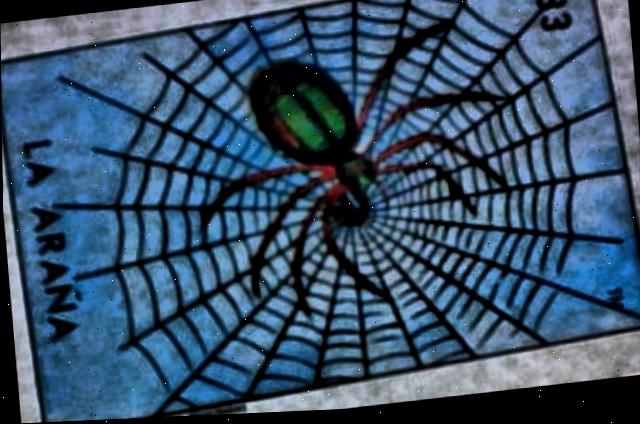La Arana: (1, 0, 640, 423)
